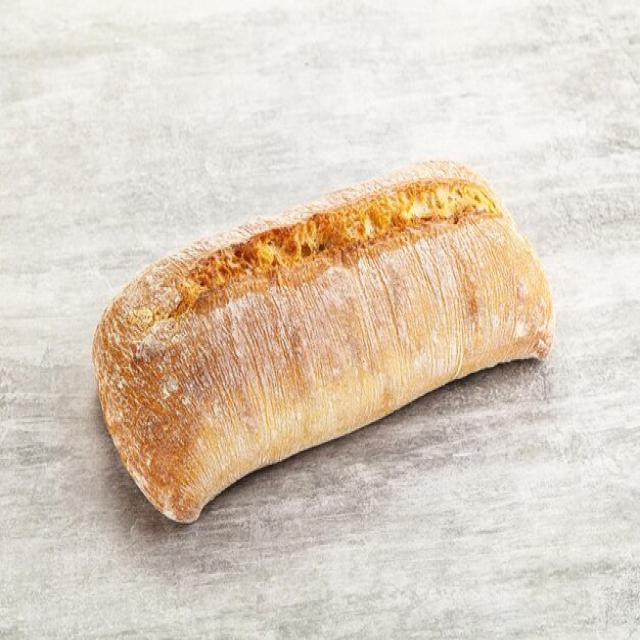Ciabatta: (92, 163, 554, 522)
